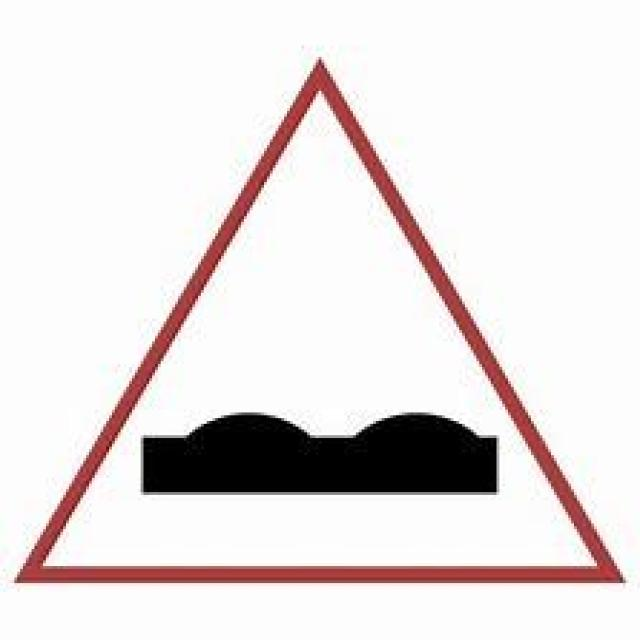BUMPS: (0, 56, 640, 595)
